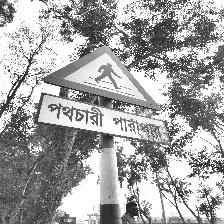Pedestrian-crossing: (37, 45, 167, 144)
